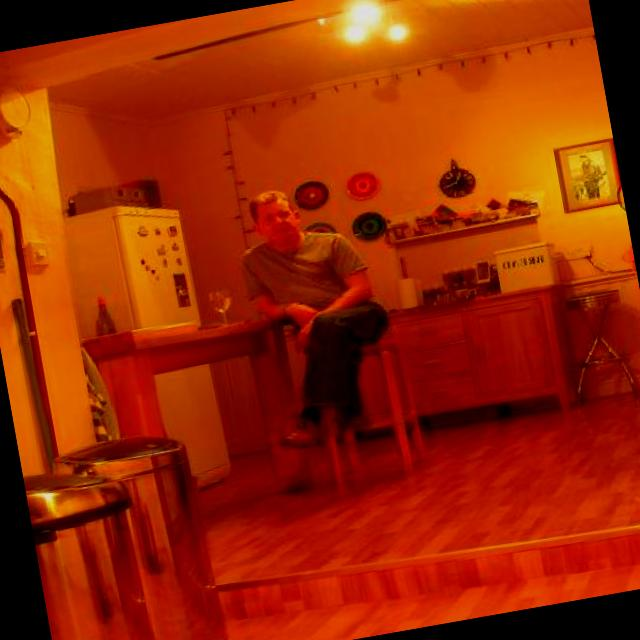Person: (228, 170, 414, 448)
